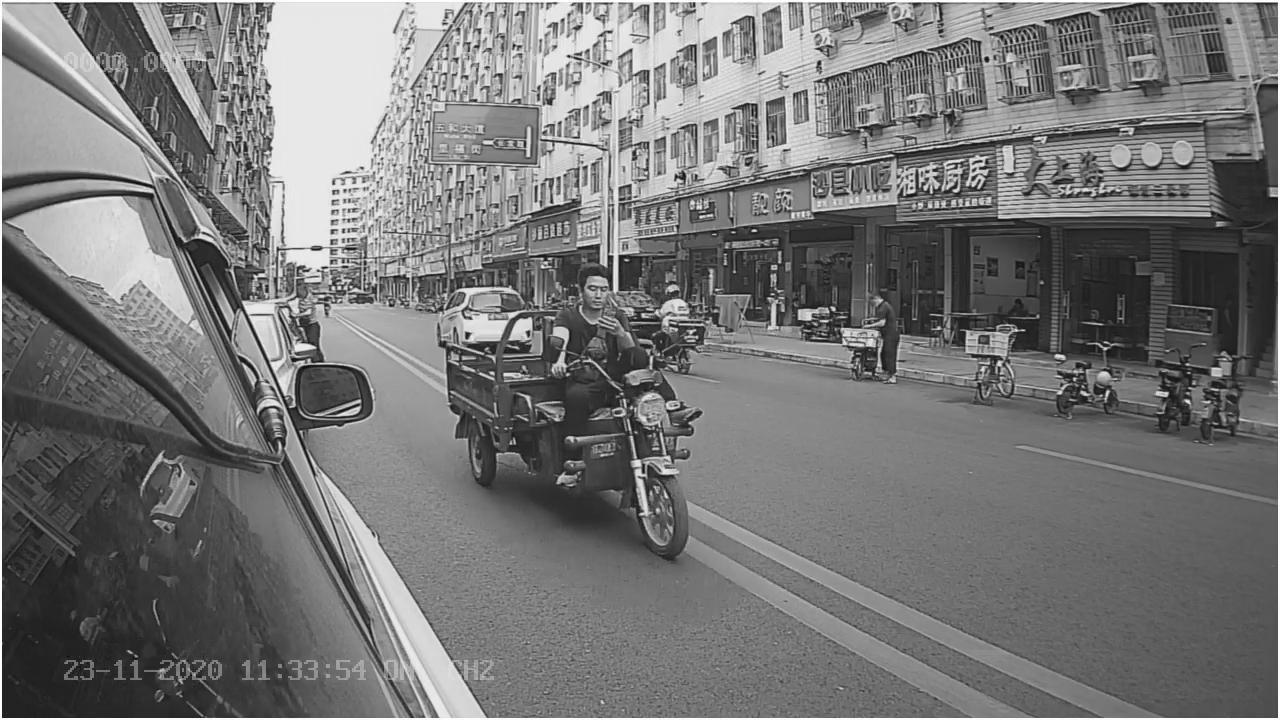person: (550, 264, 644, 370)
